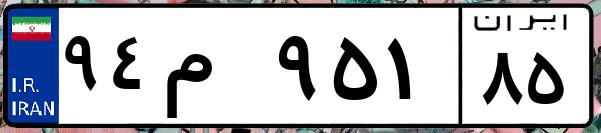1: (385, 28, 445, 110)
4: (110, 28, 158, 98)
5: (330, 28, 385, 110), (525, 38, 570, 115)
8: (475, 38, 525, 113)
9: (270, 28, 330, 110), (57, 26, 110, 100)
م: (158, 20, 270, 120)
